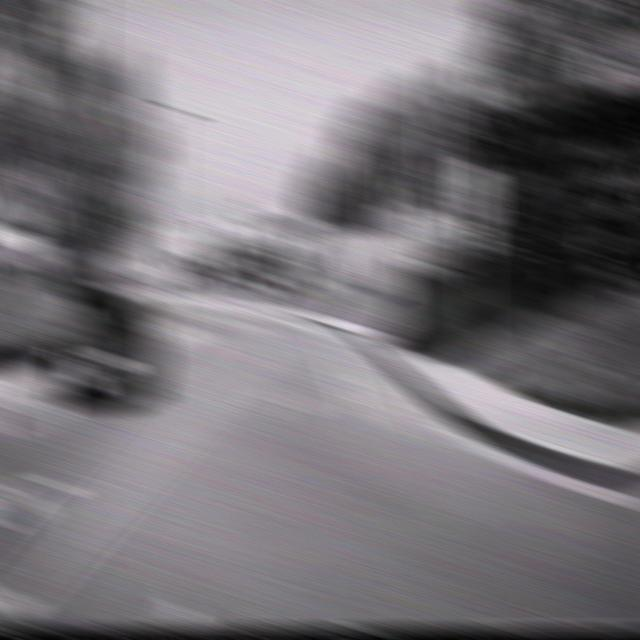speedLimit25: (457, 162, 494, 217)
